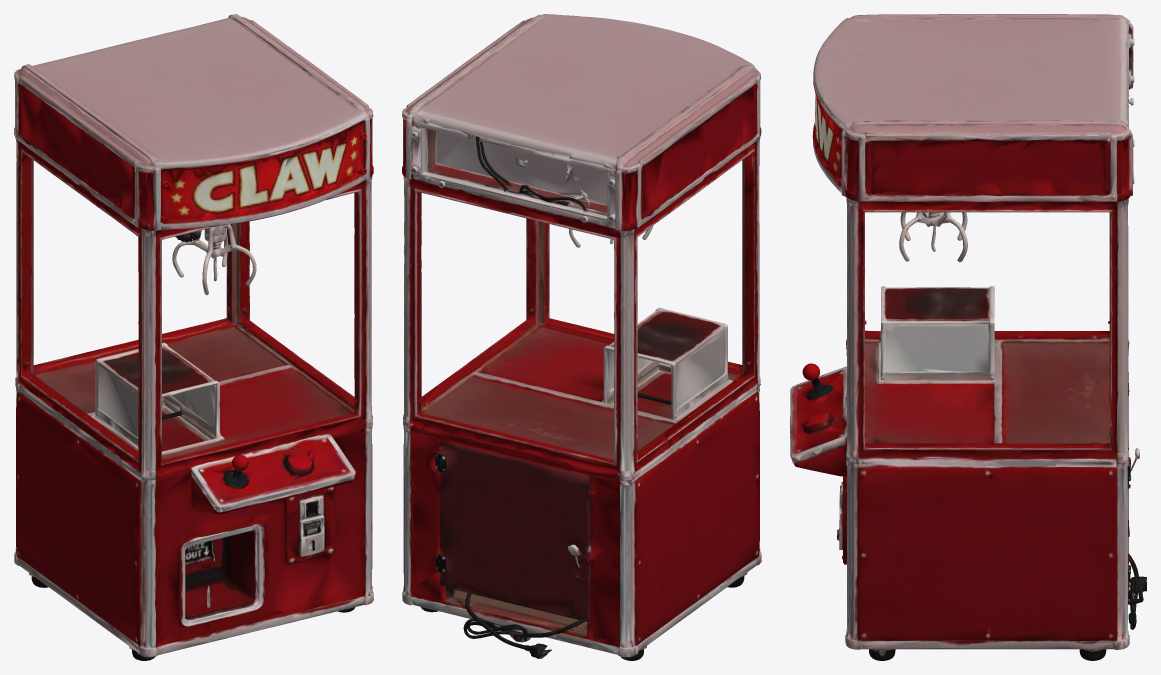
File: claw-machine-hq.min.glb
3 views of the same model, side by side, from view 1: azimuth 30°, elevation 25°; view 2: azimuth 150°, elevation 25°; view 3: azimuth 270°, elevation 25° (orthographic). The views are drawn at different scales.
Parts seen in each view (by area): view 1: tripo_node_bce61bfe-72ab-438e-9c76-f0304da93531; view 2: tripo_node_bce61bfe-72ab-438e-9c76-f0304da93531; view 3: tripo_node_bce61bfe-72ab-438e-9c76-f0304da93531.
Part boxes in pixels (left/top/right/bottom): tripo_node_bce61bfe-72ab-438e-9c76-f0304da93531: left=14, top=14, right=373, bottom=660; tripo_node_bce61bfe-72ab-438e-9c76-f0304da93531: left=402, top=14, right=761, bottom=660; tripo_node_bce61bfe-72ab-438e-9c76-f0304da93531: left=790, top=14, right=1146, bottom=660.
Size of the model in its own units: 0.4753 by 0.9807 by 0.5878.
Materials: 1 (1 with a texture image).
